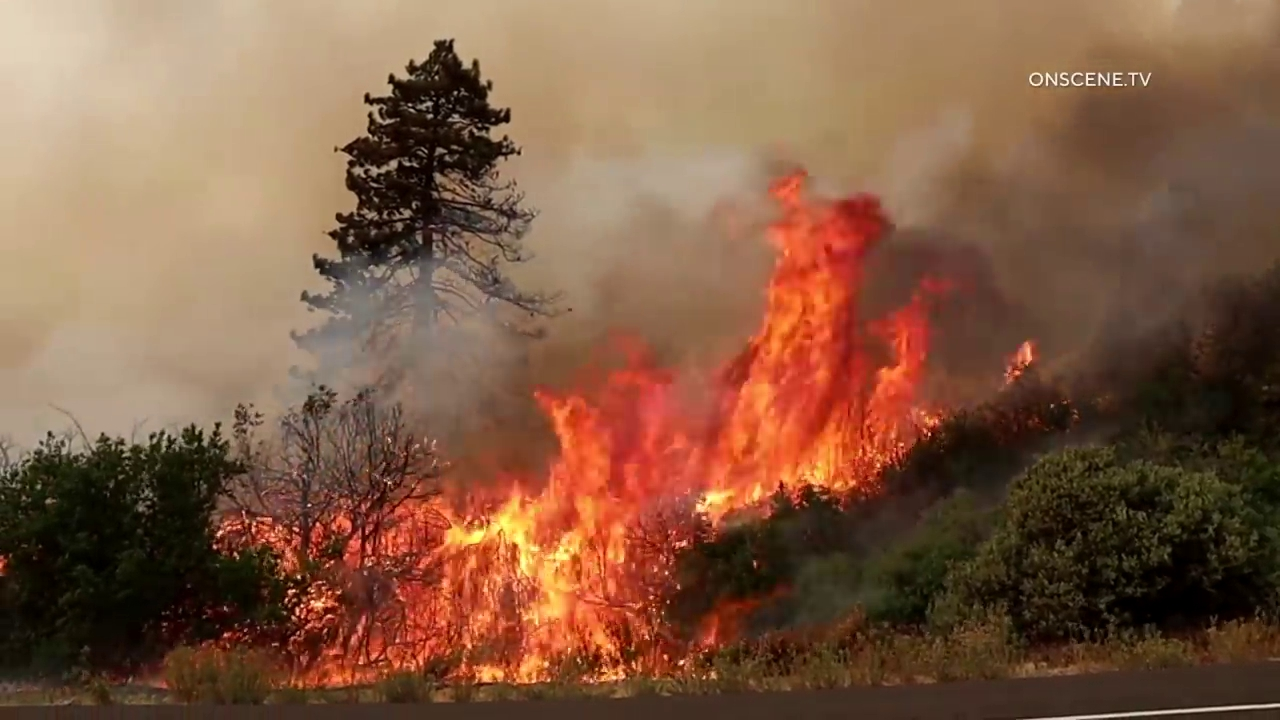forest_fire: (231, 174, 944, 681), (1006, 341, 1034, 383)
